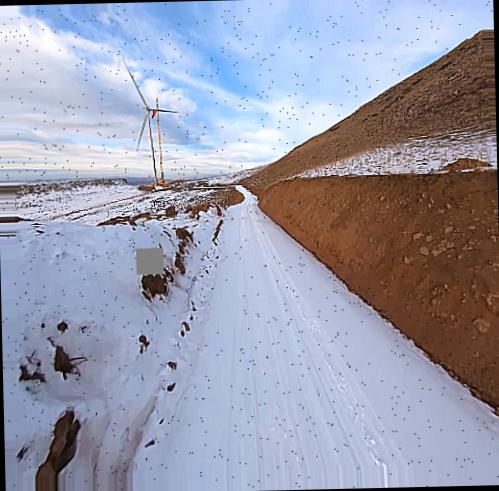wind turbine: (120, 58, 180, 177)
